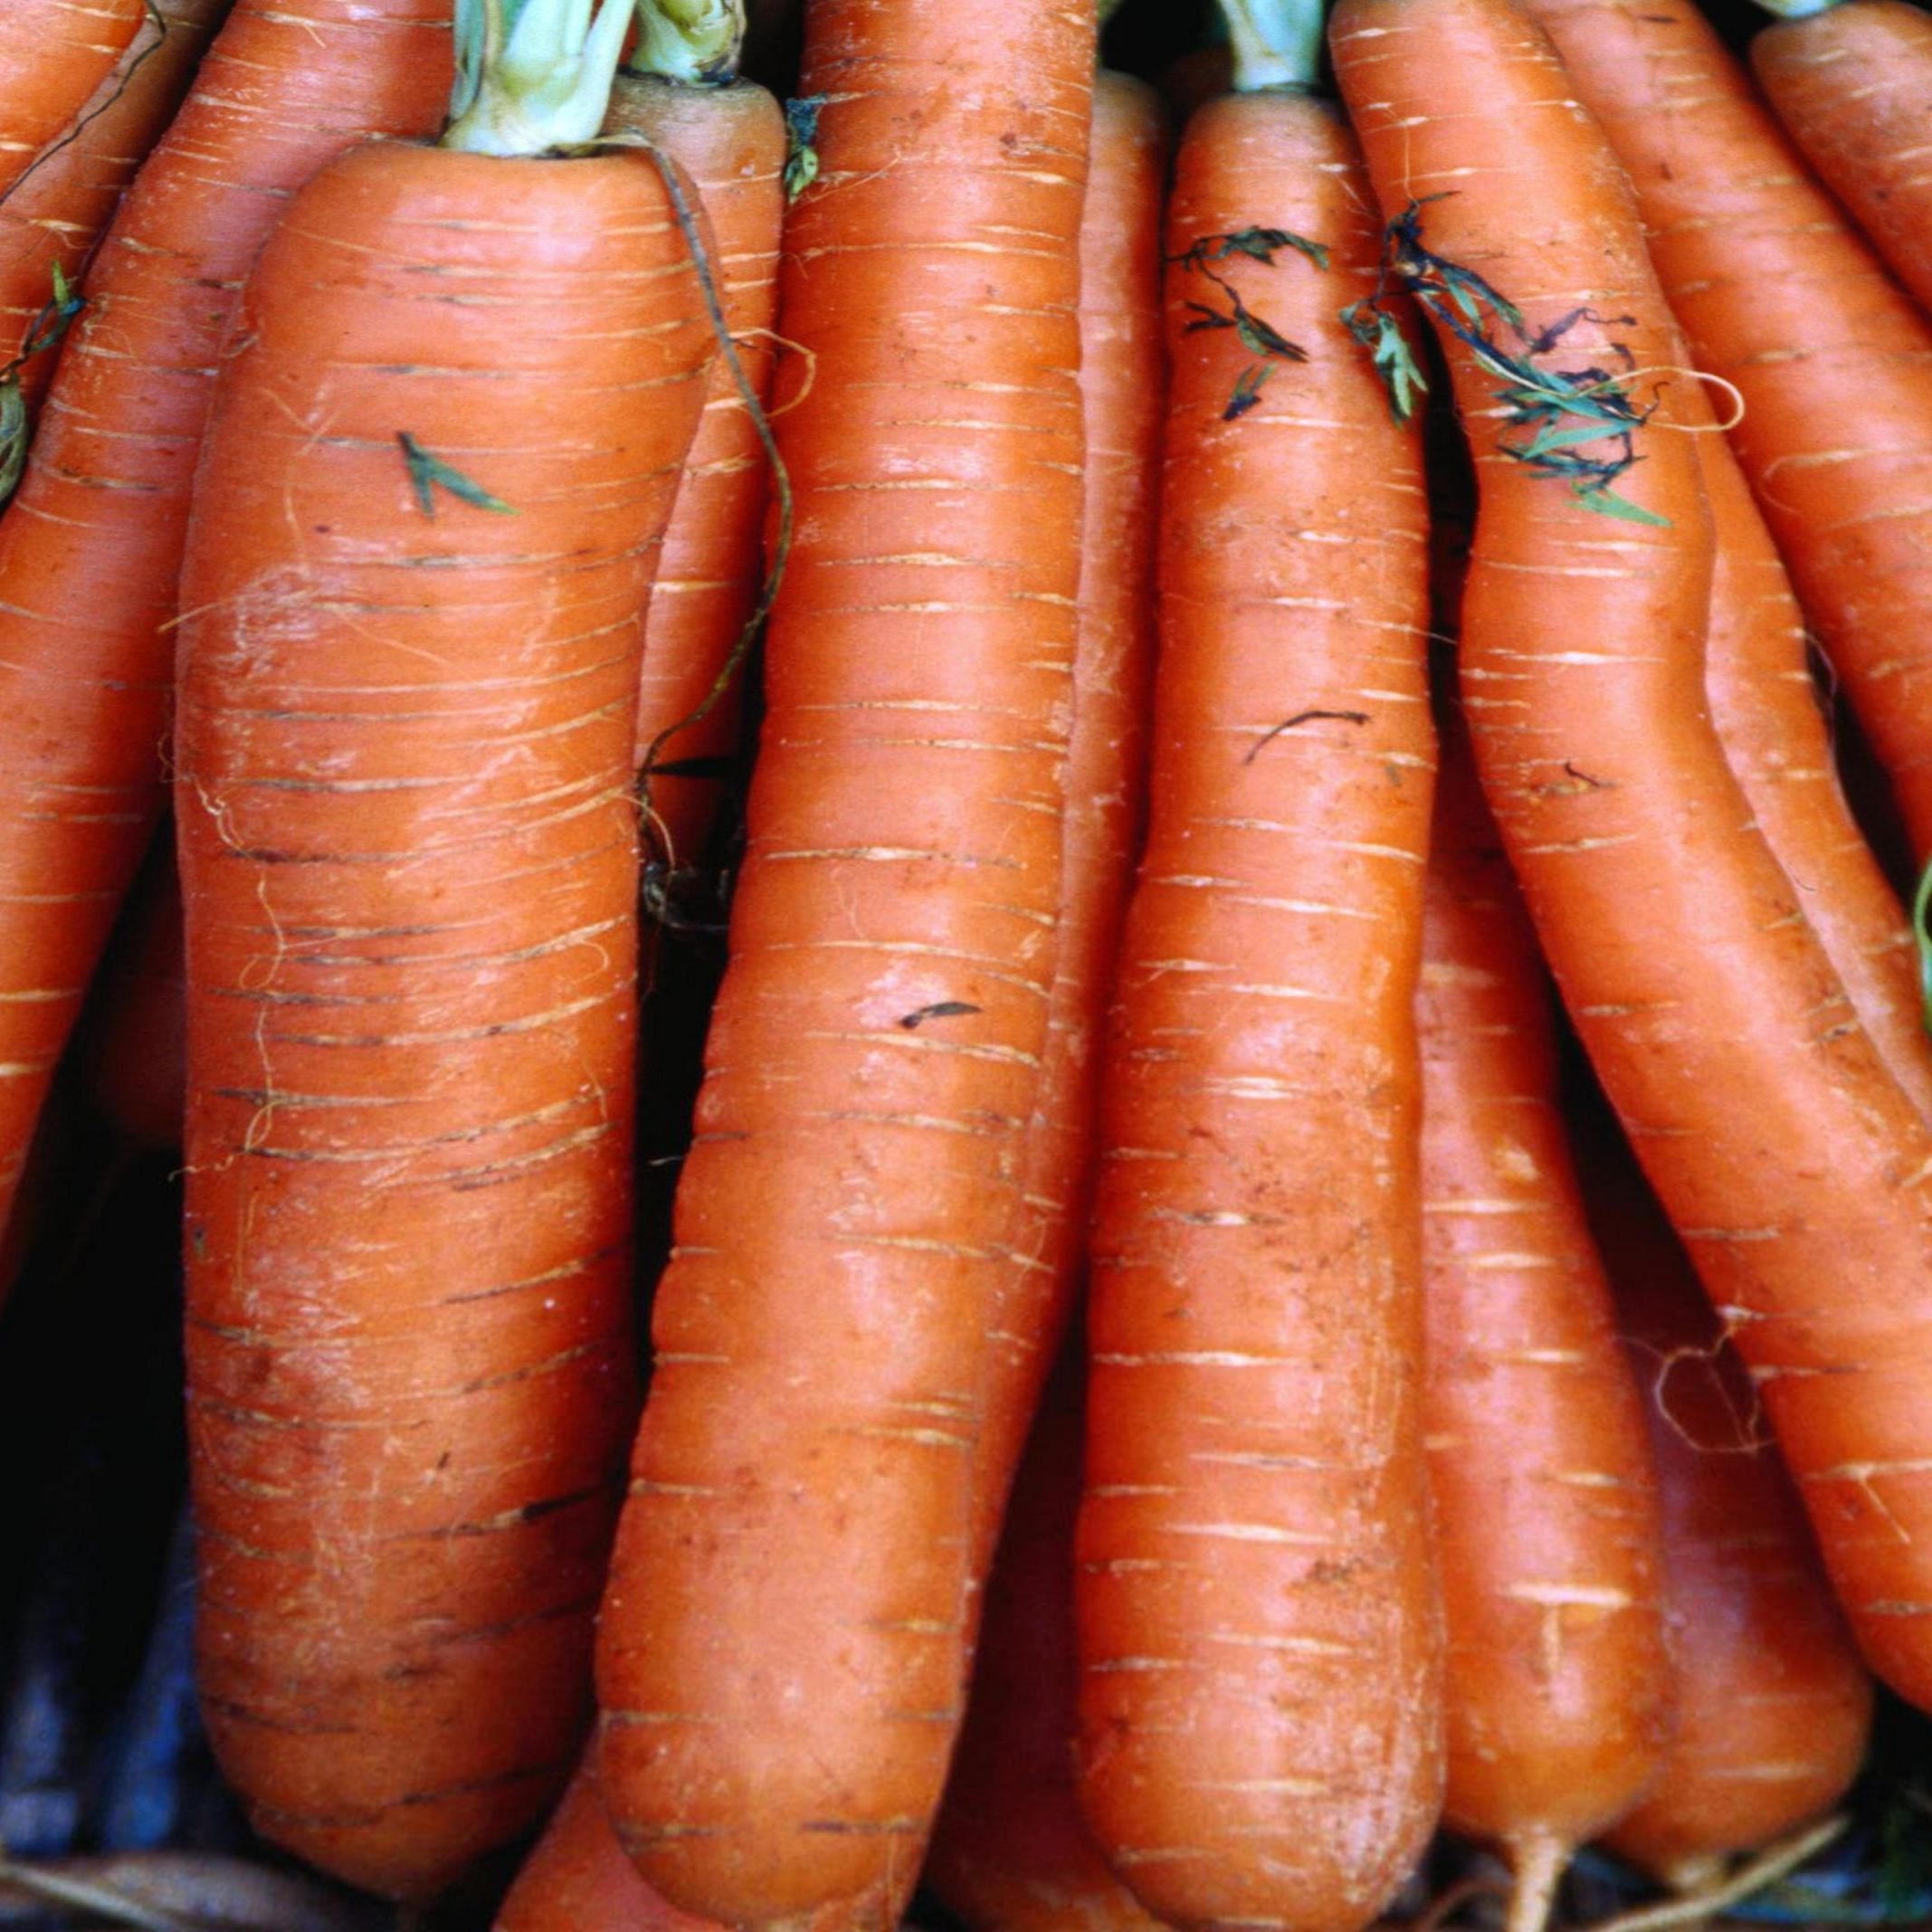carrot: (1162, 64, 1932, 1932), (55, 64, 640, 1913), (750, 9, 1083, 1932)
